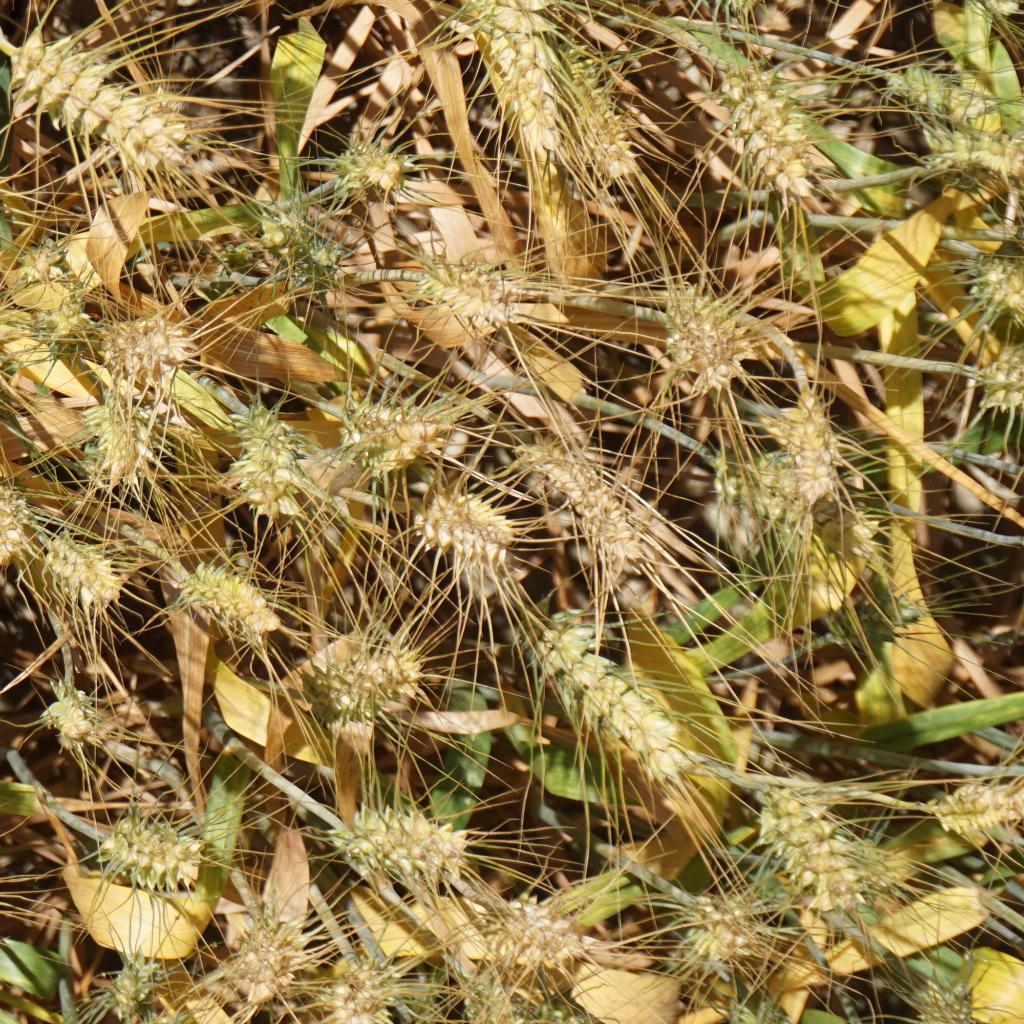0-0: (4, 45, 192, 167), (541, 625, 687, 776), (519, 436, 645, 571), (472, 0, 567, 170), (713, 60, 816, 192), (760, 776, 863, 905), (808, 576, 942, 666), (456, 890, 592, 978), (393, 482, 520, 574), (554, 49, 641, 180), (661, 275, 762, 387), (175, 554, 292, 649), (93, 793, 211, 886), (786, 471, 892, 570), (348, 800, 466, 887), (228, 403, 318, 516), (78, 381, 164, 488), (308, 623, 408, 715), (773, 389, 856, 497), (704, 448, 806, 530), (868, 59, 994, 122), (347, 388, 456, 460), (678, 887, 762, 978), (425, 244, 519, 324), (304, 945, 403, 1020), (44, 682, 136, 762), (928, 758, 1024, 834), (271, 217, 351, 303), (98, 305, 204, 369), (35, 527, 122, 604), (224, 908, 292, 1001), (911, 115, 1014, 175), (324, 137, 413, 206), (960, 246, 1024, 320), (0, 232, 79, 291), (888, 967, 976, 1019), (206, 224, 273, 283), (98, 956, 155, 1020), (47, 304, 105, 362), (0, 479, 36, 566), (975, 342, 1024, 403)
